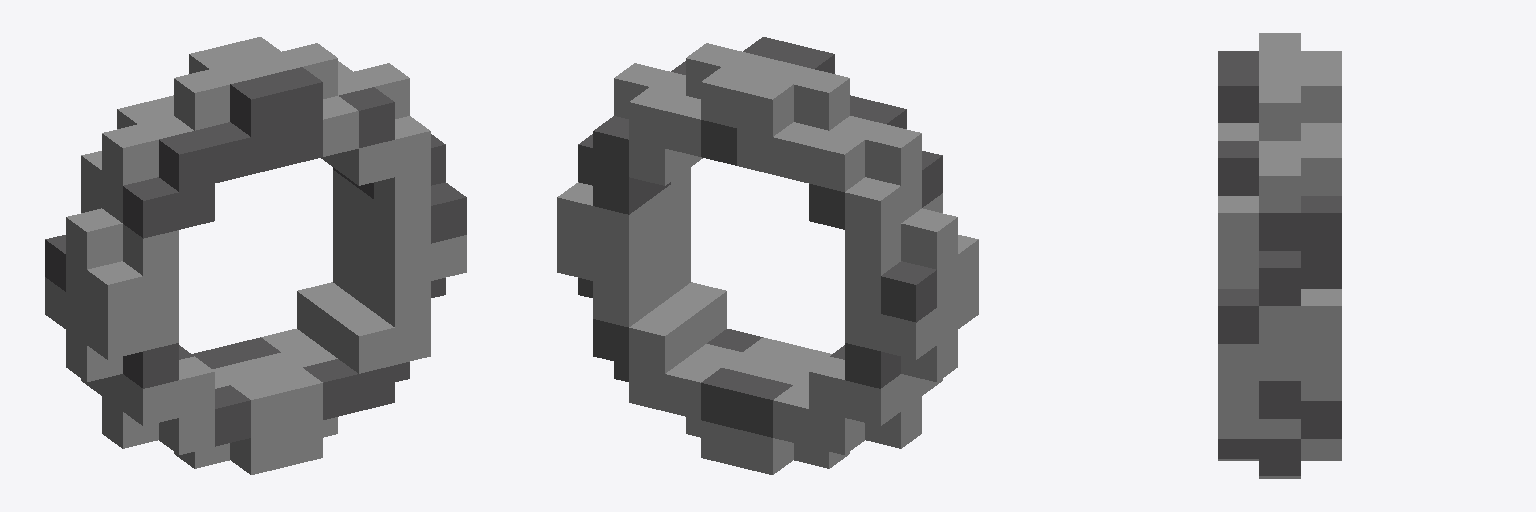
3 views of the same model, side by side, from view 1: azimuth 30°, elevation 25°; view 2: azimuth 150°, elevation 25°; view 3: azimuth 270°, elevation 25° (orthographic).
Visible parts, largest first — view 1: object 1; view 2: object 1; view 3: object 1.
Part boxes in pixels (left/top/right/bottom): object 1: left=45, top=37, right=466, bottom=474; object 1: left=557, top=37, right=978, bottom=474; object 1: left=1218, top=33, right=1341, bottom=478.
Size of the model in its own units: 1 by 1 by 0.3.
Materials: 1 (1 with a texture image).